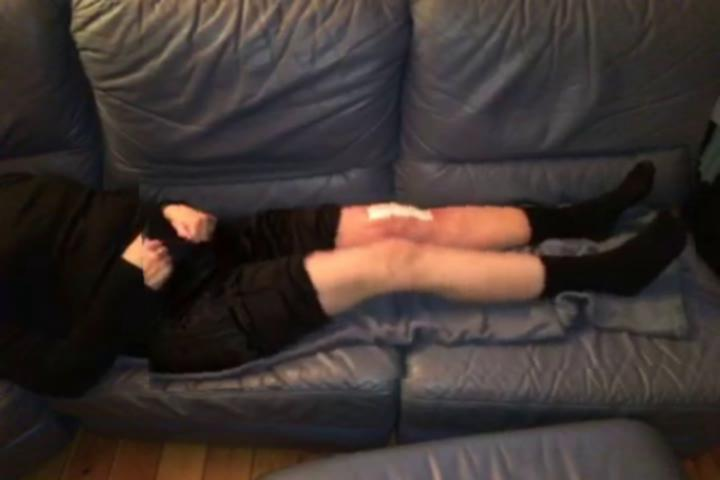lowerbody: (142, 152, 699, 386)
